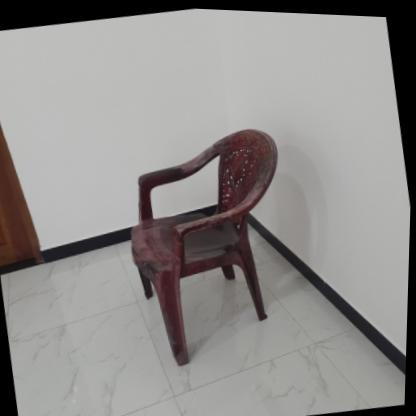Ceramic floor: (3, 232, 408, 416)
Chair: (110, 116, 310, 372)
